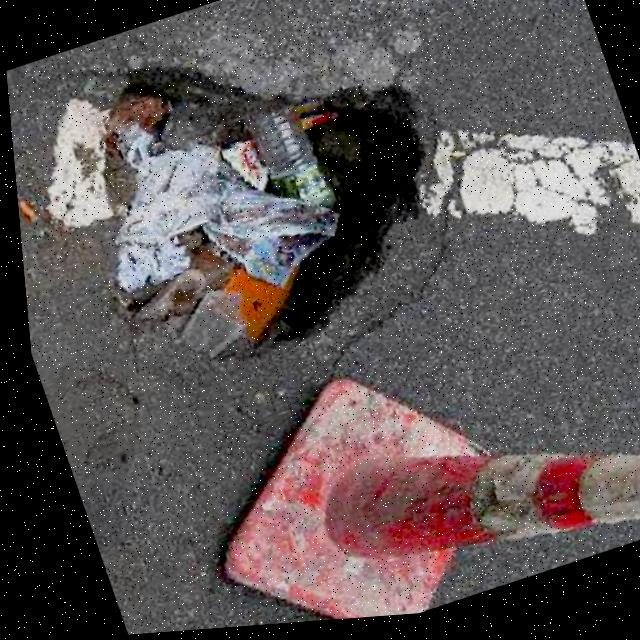Pothole: (35, 0, 487, 407)
